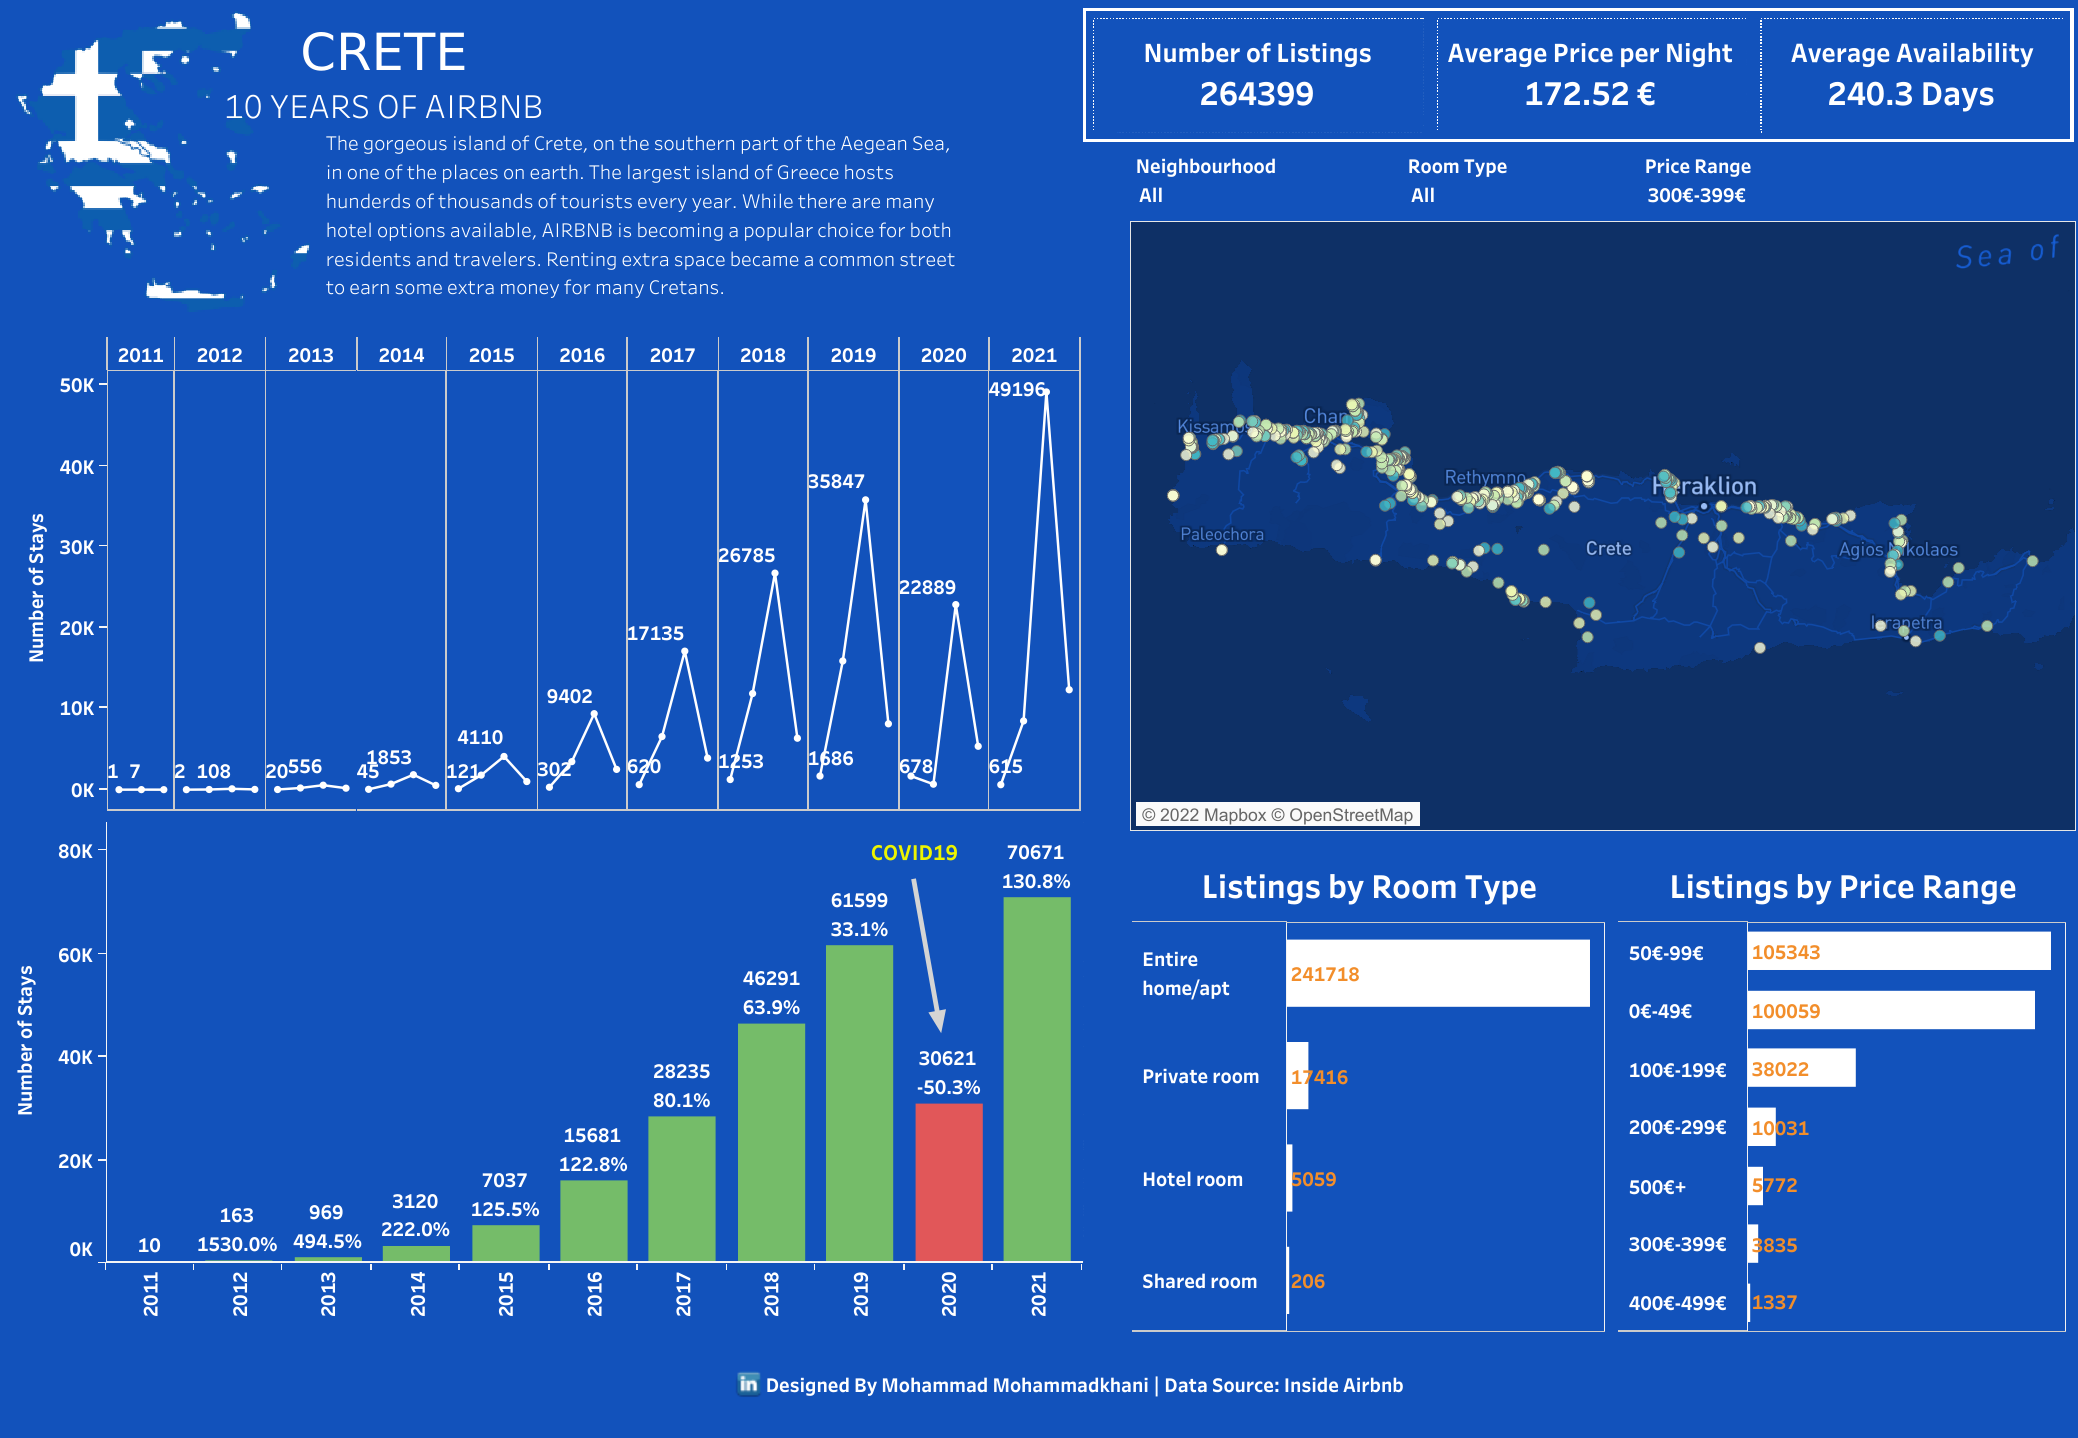

What the dashboard file says about the page in this screenshot:
{"tool":"tableau","page":{"name":"Dashboard","canvas":[1300,900],"ordinal":0},"visuals":[{"type":"worksheet","title":"# of Listings","mark":"Automatic","box":[679,7,215,80]},{"type":"worksheet","title":"Avg Price per Night","mark":"Automatic","box":[894,7,202,80]},{"type":"worksheet","title":"Avg Availability in Year","mark":"Automatic","box":[1096,7,198,80]},{"type":"text","box":[201,74,405,119]},{"type":"filter","title":"Map","param":"[federated.1idb3050kk9p971dw68aa1rvzl60].[attr:neighbourhood:nk]","box":[706,89,170,47]},{"type":"filter","title":"Map","param":"[federated.1idb3050kk9p971dw68aa1rvzl60].[attr:room_type:nk]","box":[876,89,148,47]},{"type":"filter","title":"Map","param":"[federated.1idb3050kk9p971dw68aa1rvzl60].[Price (group)]","box":[1024,89,193,47]},{"type":"worksheet","title":"Map","mark":"Multipolygon","rows":["latitude"],"cols":["longitude"],"box":[702,134,600,390]},{"type":"worksheet","title":"Number of Stays","mark":"Automatic","rows":["Calculation_6524097382452998144"],"cols":["date","date"],"box":[2,207,678,303.5]},{"type":"worksheet","title":"Changes","mark":"Bar","rows":["Calculation_6524097382452998144"],"cols":["date"],"box":[2,510.5,678,322.5]},{"type":"worksheet","title":"Listings by Room Type","mark":"Bar","rows":["room_type"],"box":[704,529,304,308]},{"type":"worksheet","title":"Listings by Price Range","mark":"Bar","box":[1008,529,288,308]},{"type":"text","box":[476,848,404,34]},{"type":"image","param":"Image/linkedin-logo-png-1826.png","box":[456,856,24,18]}]}

Visuals, with their boxes in screenshot pixels (x1, y1, x2, y2), scaled from the page's 1300x900 canvas onto the 2078x1438 screenshot:
"# of Listings" worksheet: 1085,11,1429,139
"Avg Price per Night" worksheet: 1429,11,1752,139
"Avg Availability in Year" worksheet: 1752,11,2068,139
text: 321,118,969,308
"Map" filter: 1129,142,1400,217
"Map" filter: 1400,142,1637,217
"Map" filter: 1637,142,1945,217
"Map" worksheet (Multipolygon marks): 1122,214,2077,837
"Number of Stays" worksheet: 3,331,1087,816
"Changes" worksheet (Bar marks): 3,816,1087,1331
"Listings by Room Type" worksheet (Bar marks): 1125,845,1611,1337
"Listings by Price Range" worksheet (Bar marks): 1611,845,2072,1337
text: 761,1355,1407,1409
image: 729,1368,767,1396
